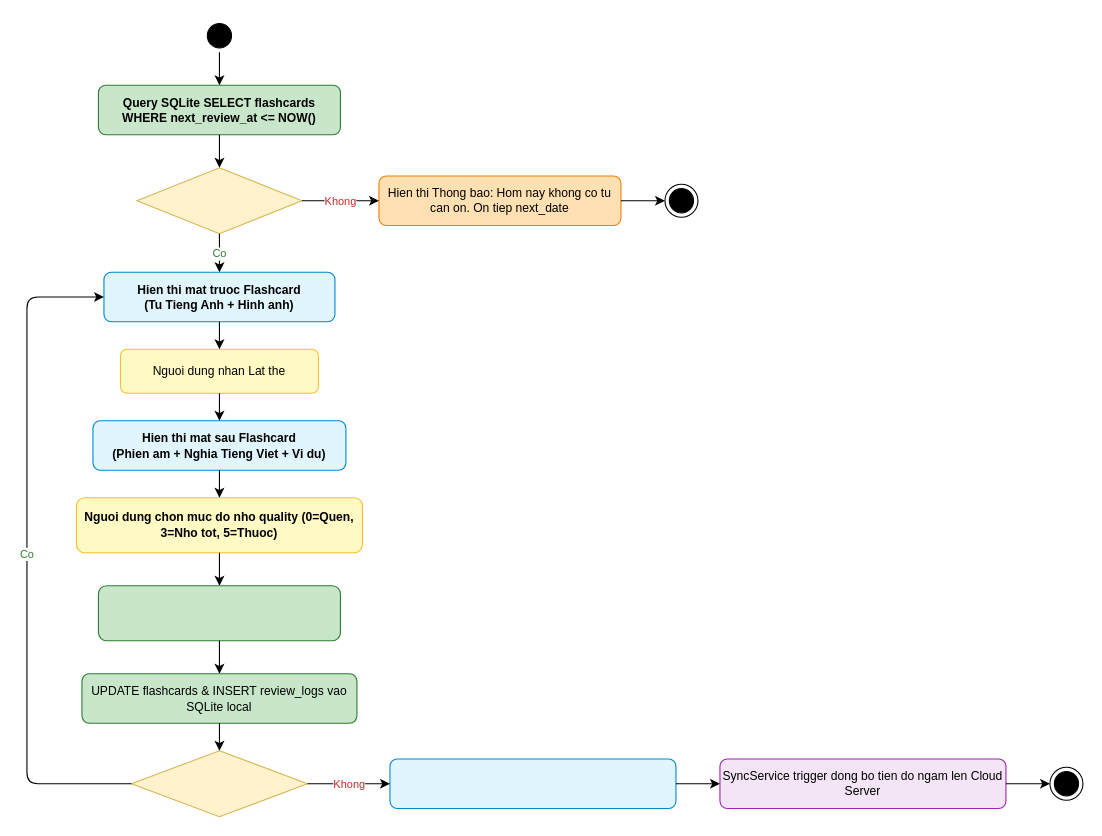
Some shapes in this 1102 by 836 pixel diagram are drawn without their labels. Here are the shapes that lost their labels. From the top down, the centre of each, then its label:
point 219,200: Co tu can on?
point 218,613: SM-2 Module tinh toán: newEF, newInterval, nextReviewAt
point 218,783: Con tu can on?
point 532,783: Hien thi Ket qua Phien on tap (So tu da on - XP nhan duoc - Current Streak)
